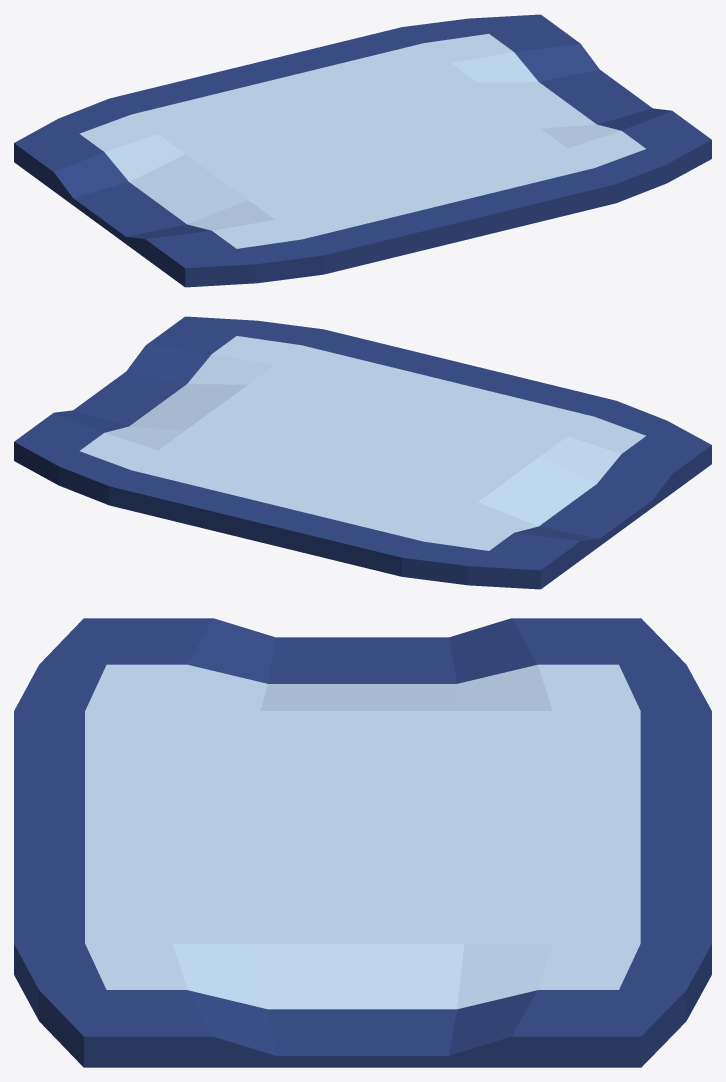
Rendered from CuttingBoardV1.fbx.
The picture shows the model from 3 angles, top to bottom: view 1: azimuth 30°, elevation 25°; view 2: azimuth 150°, elevation 25°; view 3: azimuth 270°, elevation 25°; orthographic projection. The views are drawn at different scales.
Parts seen in each view (by area): view 1: Cube; view 2: Cube; view 3: Cube.
Boxes of the visible parts, box(x1,y1,x2,y2) form: Cube: box(14, 14, 711, 287); Cube: box(14, 316, 711, 589); Cube: box(14, 618, 711, 1067).
Size of the model in its own units: 771 by 1093 by 38.02.
